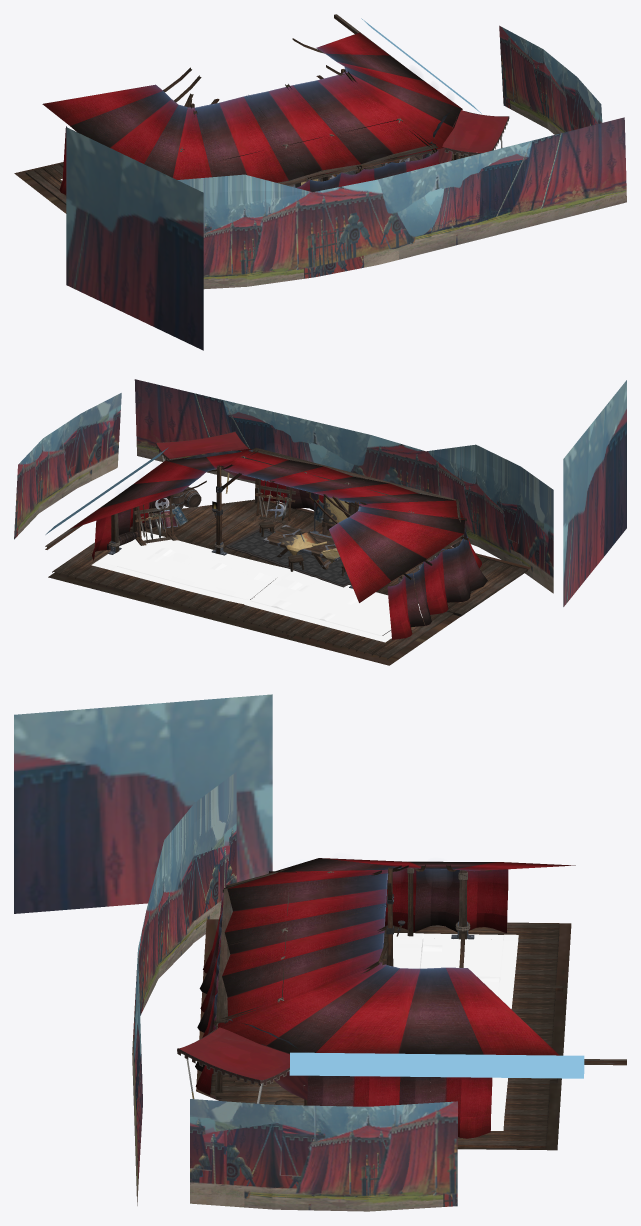
Rendered from dojo_Legion.glb.
3 renders of one model, top to bottom at view 1: azimuth 30°, elevation 25°; view 2: azimuth 150°, elevation 25°; view 3: azimuth 270°, elevation 25°, orthographic. The views are drawn at different scales.
Parts seen in each view (by area): view 1: camp; view 2: camp, ShadowReciever, foreground, metal; view 3: camp, foreground, ShadowReciever.
Boxes of the visible parts, left/top/right/bottom form: camp: left=14, top=14, right=626, bottom=350; camp: left=14, top=379, right=626, bottom=665; ShadowReciever: left=91, top=531, right=422, bottom=642; foreground: left=92, top=513, right=424, bottom=639; metal: left=140, top=479, right=436, bottom=588; camp: left=14, top=694, right=626, bottom=1211; foreground: left=430, top=869, right=508, bottom=1138; ShadowReciever: left=393, top=933, right=518, bottom=1130.
Bounding box in the file's own units: 2866 × 846 × 2324.
Materials: 6 (4 with a texture image).
